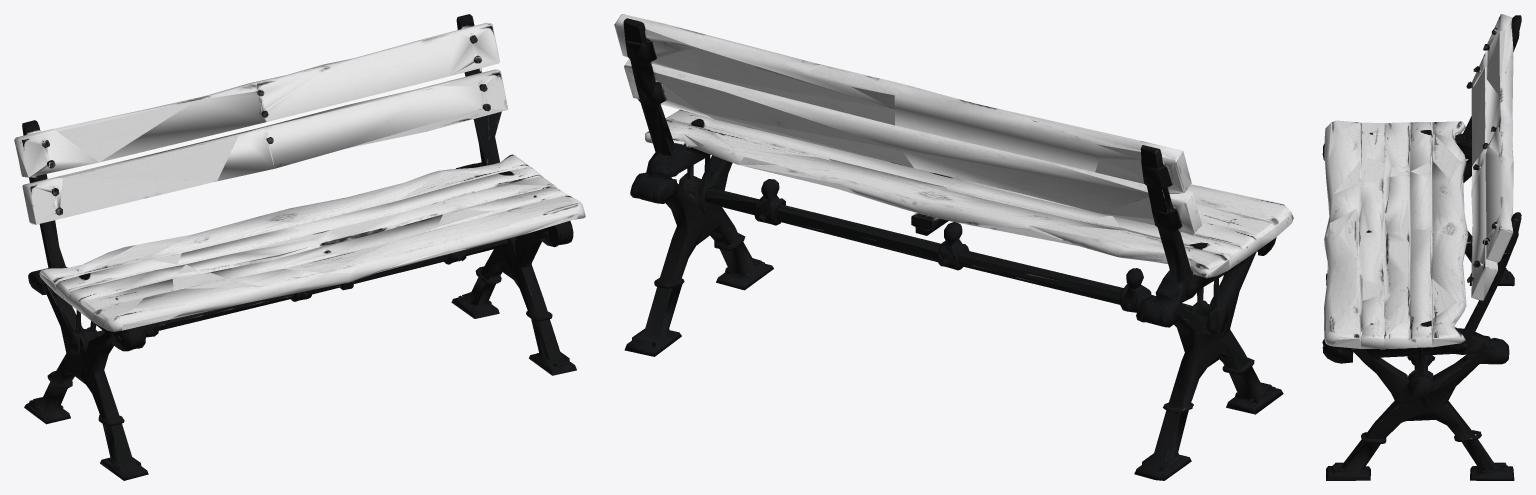
File: BancBlockhaus.fbx
3 renders of one model, left to right at view 1: azimuth 30°, elevation 25°; view 2: azimuth 150°, elevation 25°; view 3: azimuth 270°, elevation 25°, orthographic. The views are drawn at different scales.
Parts seen in each view (by area): view 1: Mesh_0; view 2: Mesh_0; view 3: Mesh_0.
Part boxes in pixels (x1,y1,x2,y2): Mesh_0: (14, 14, 585, 480); Mesh_0: (614, 14, 1293, 480); Mesh_0: (1322, 14, 1521, 480).
Size of the model in its own units: 190 by 107 by 73.7.
1 material, 1 textured.
